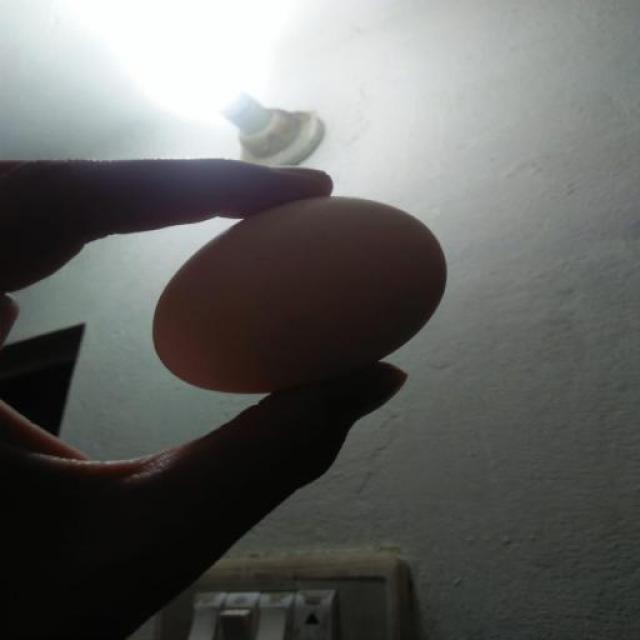telur: (149, 195, 448, 395)
